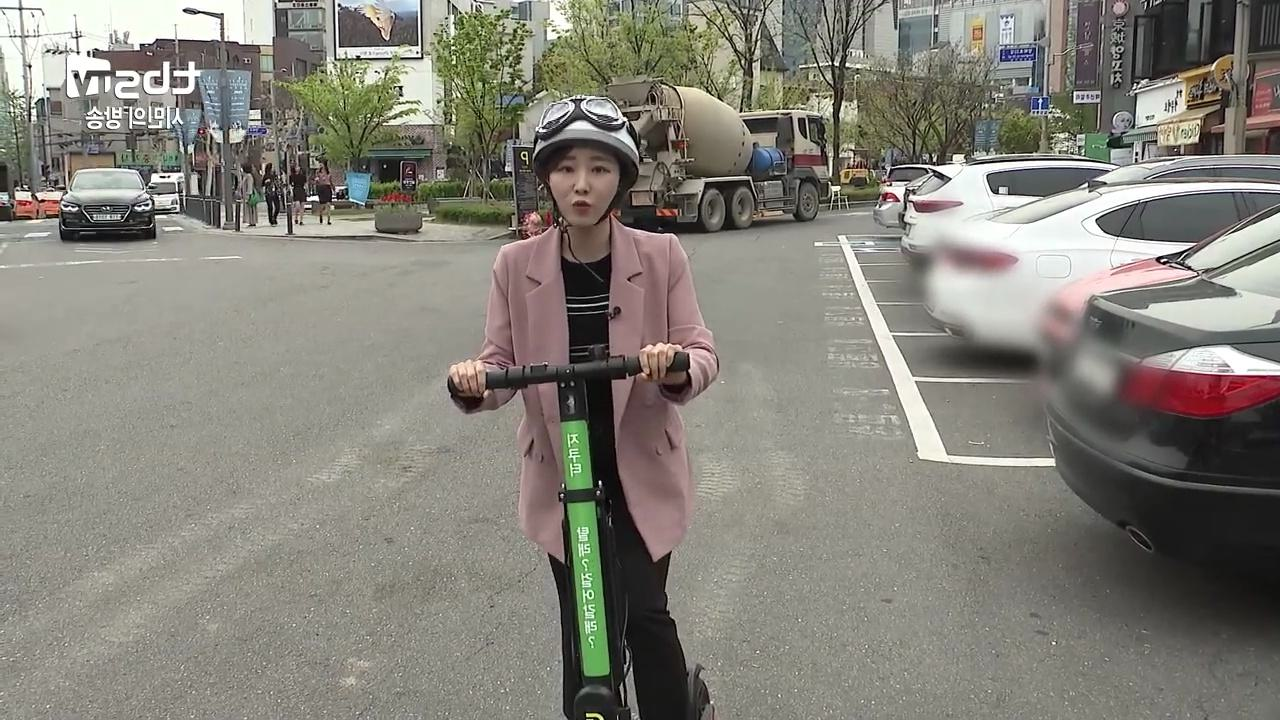helmet: (443, 93, 717, 720)
